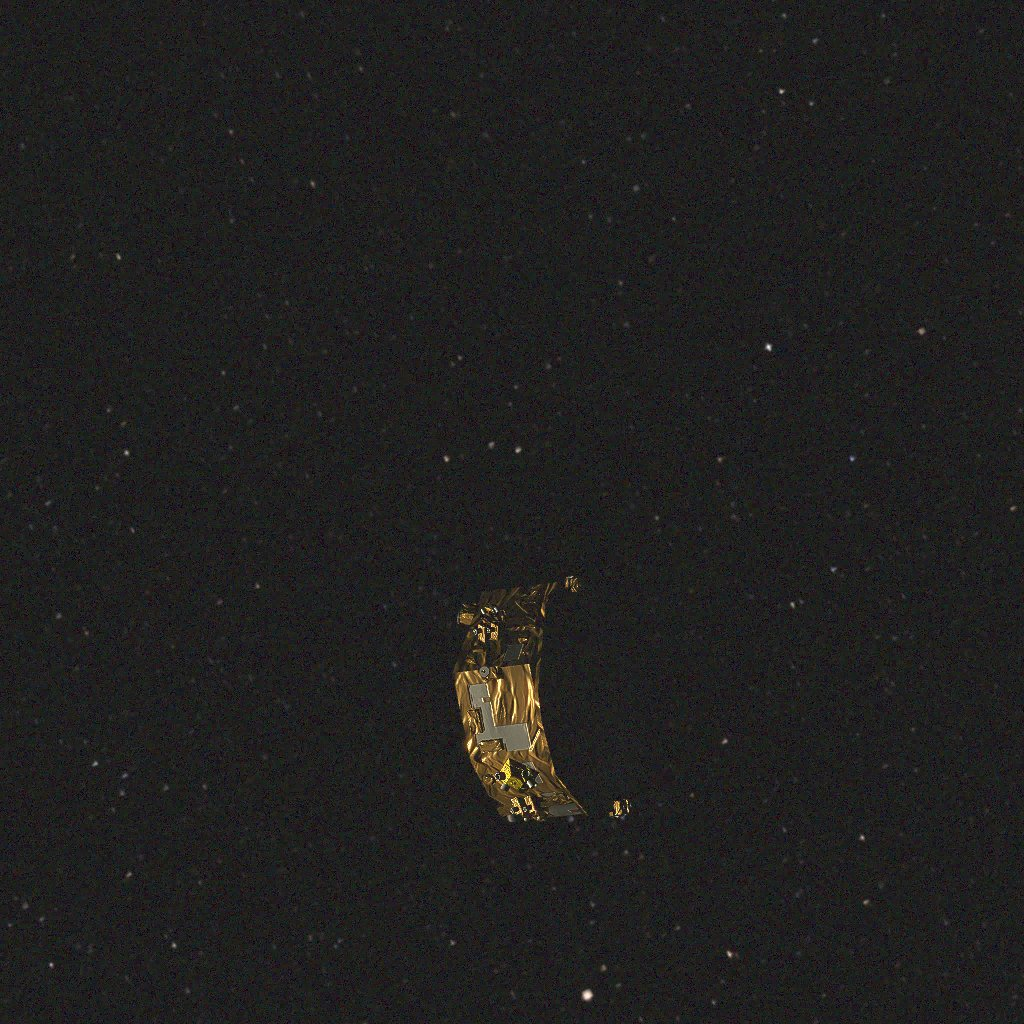lisa_pathfinder: (453, 574, 649, 822)
